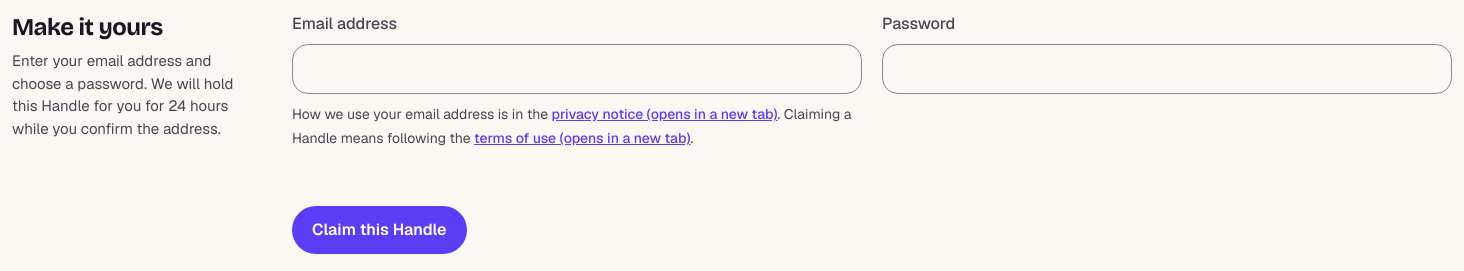
Scenario: the claim form › renders a rejection for missing a field
In the field labelled "Email address": [577, 69] box x1=292 y1=44 x2=862 y2=94, type "claimant@example.com"
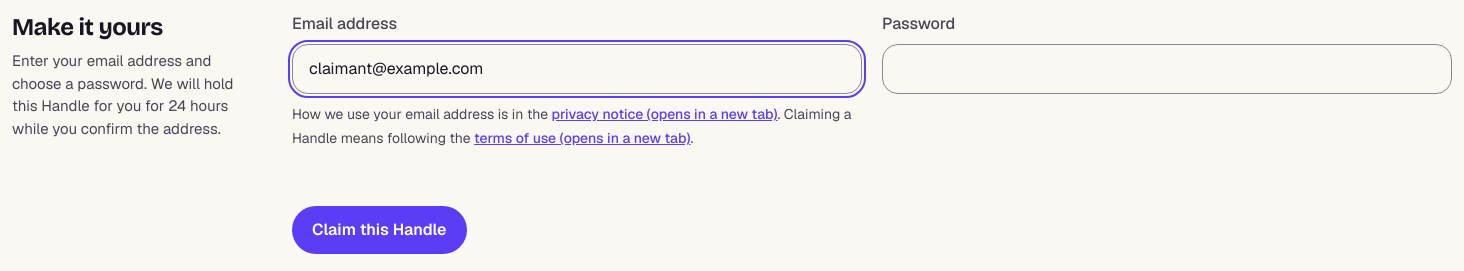
In the password field labelled "Password": [1167, 69] box x1=882 y1=44 x2=1452 y2=94, type "correct horse battery staple"
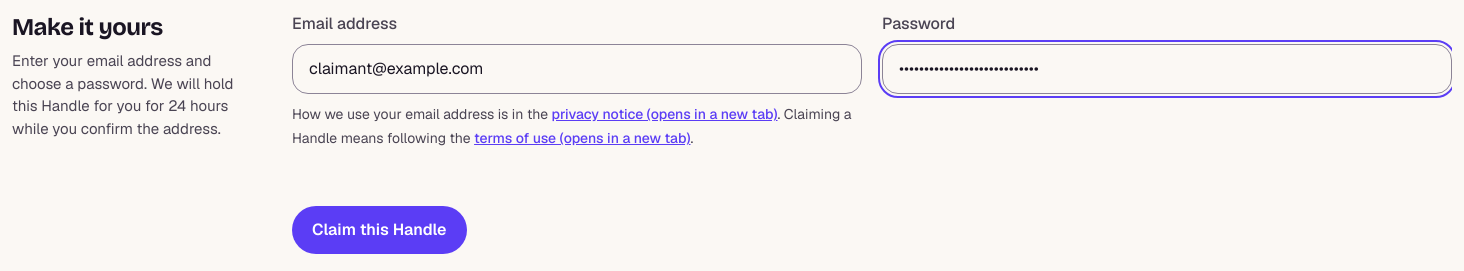
Click the button "Claim this Handle": [379, 230] box x1=292 y1=206 x2=467 y2=254
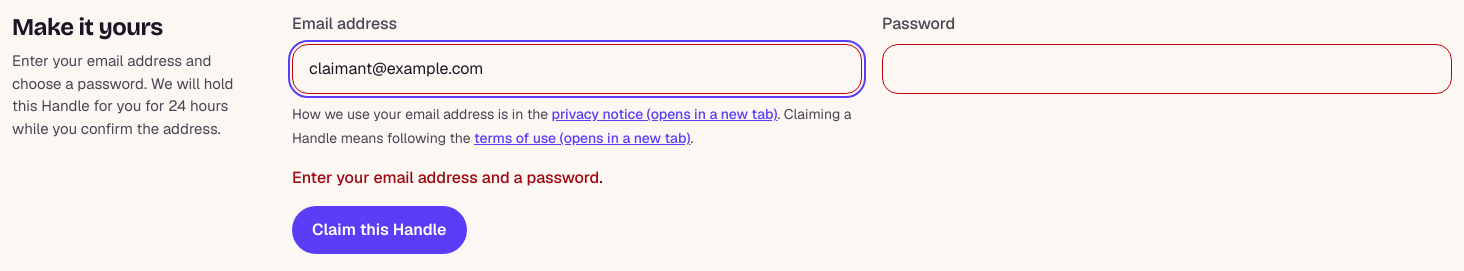
Expected: the message reads "Enter your email address and a password.", x1=292 y1=167 x2=603 y2=188
